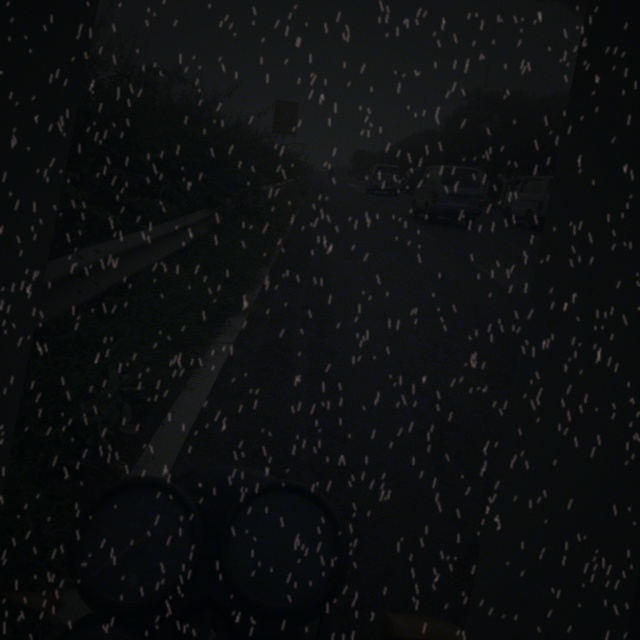Narrow_Bridge: (271, 99, 300, 133)
